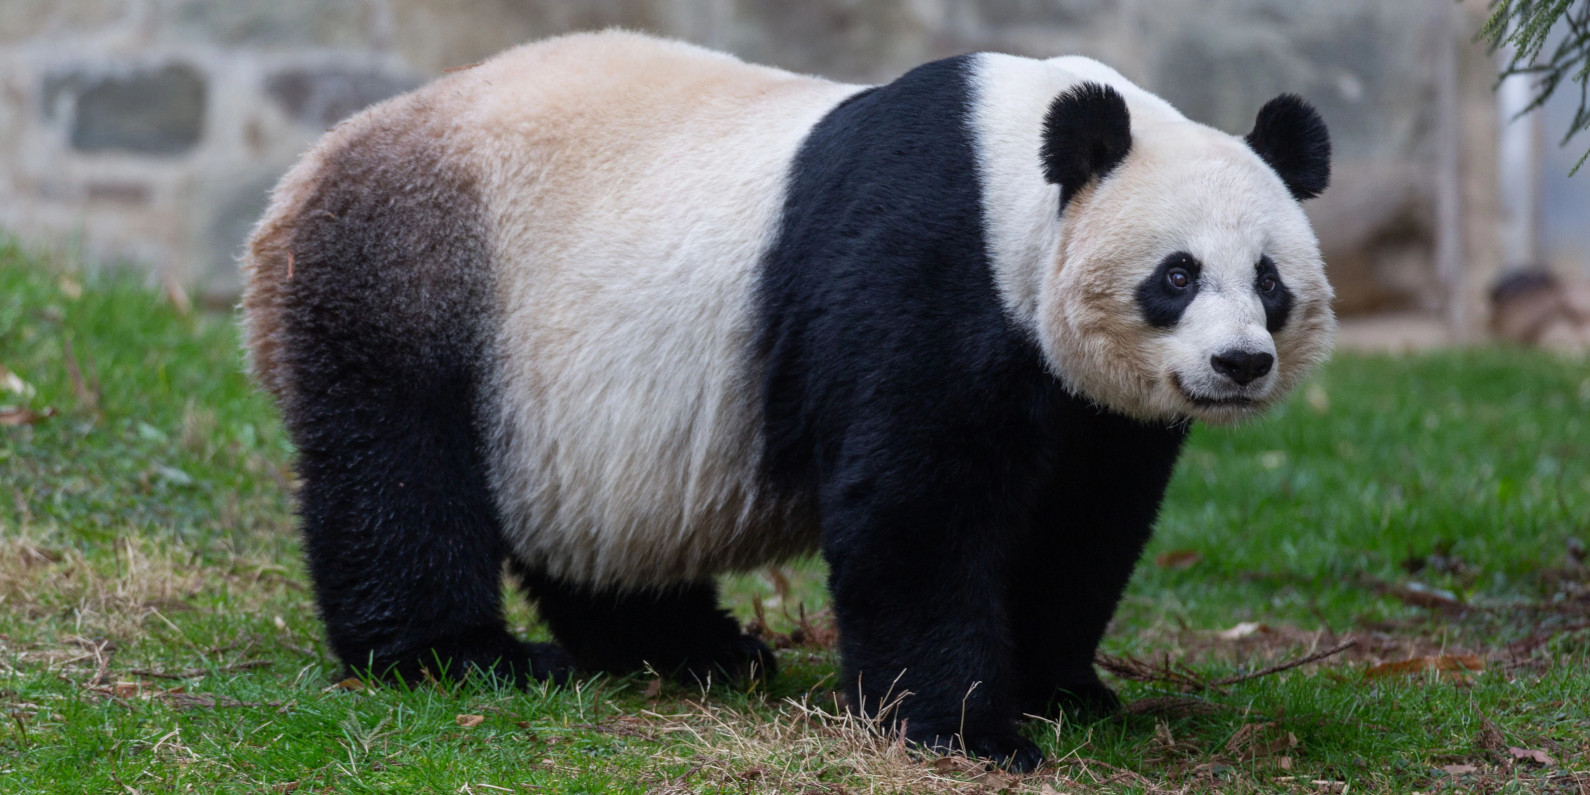Giant panda: (1031, 82, 1341, 423)
